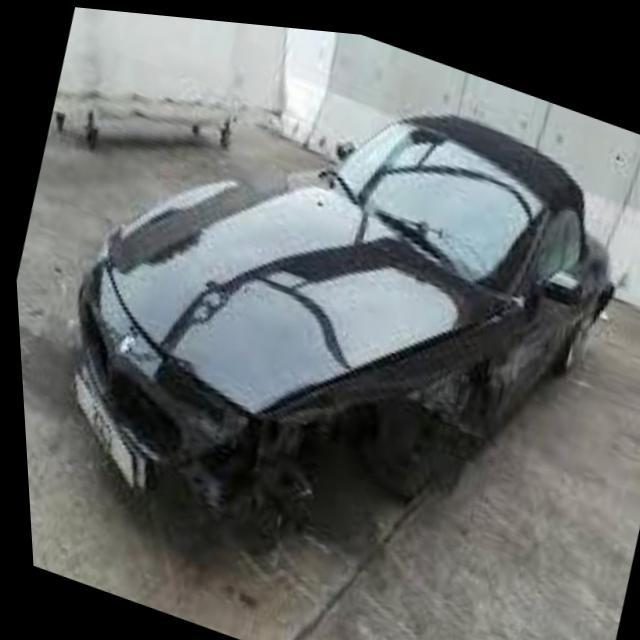no part: (155, 312, 498, 544)
